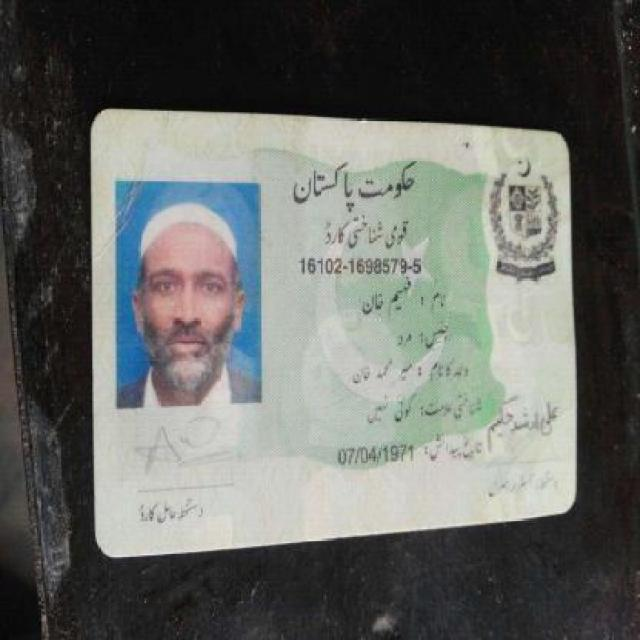Front: (86, 94, 579, 541)
